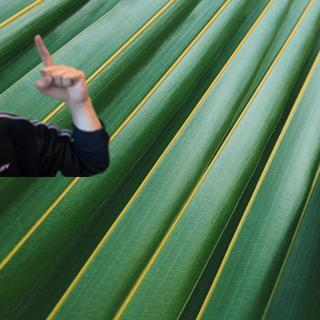IRRITATED: (30, 33, 88, 105)
